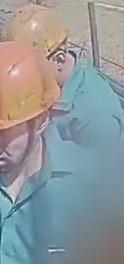helmet: (0, 40, 61, 128), (1, 3, 68, 58)
vest: (26, 120, 123, 263), (51, 56, 123, 149)
